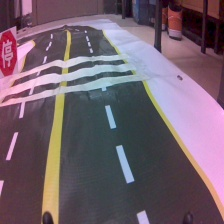stop: (1, 27, 19, 78)
